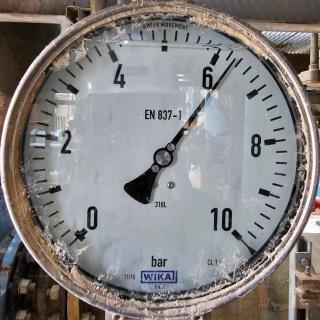gauge: (0, 0, 320, 320), (204, 206, 253, 256), (64, 214, 98, 254), (152, 148, 172, 168), (228, 54, 240, 66)
